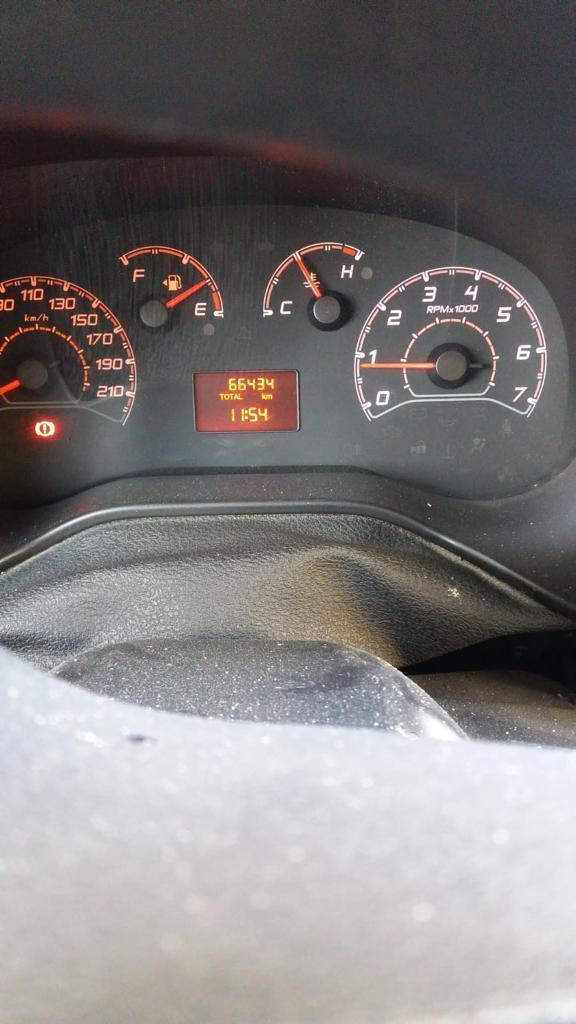1: (230, 407, 234, 422), (240, 407, 244, 422)
3: (256, 377, 264, 390)
4: (257, 407, 268, 421), (265, 377, 274, 389), (247, 378, 255, 390)
5: (248, 406, 258, 422)
6: (228, 377, 237, 390), (237, 377, 246, 390)
X: (244, 408, 248, 420), (265, 394, 272, 400), (218, 393, 224, 400), (261, 391, 265, 400), (224, 393, 229, 400), (238, 393, 243, 400), (233, 393, 238, 399), (229, 393, 233, 399)
odometer: (187, 367, 304, 437)
